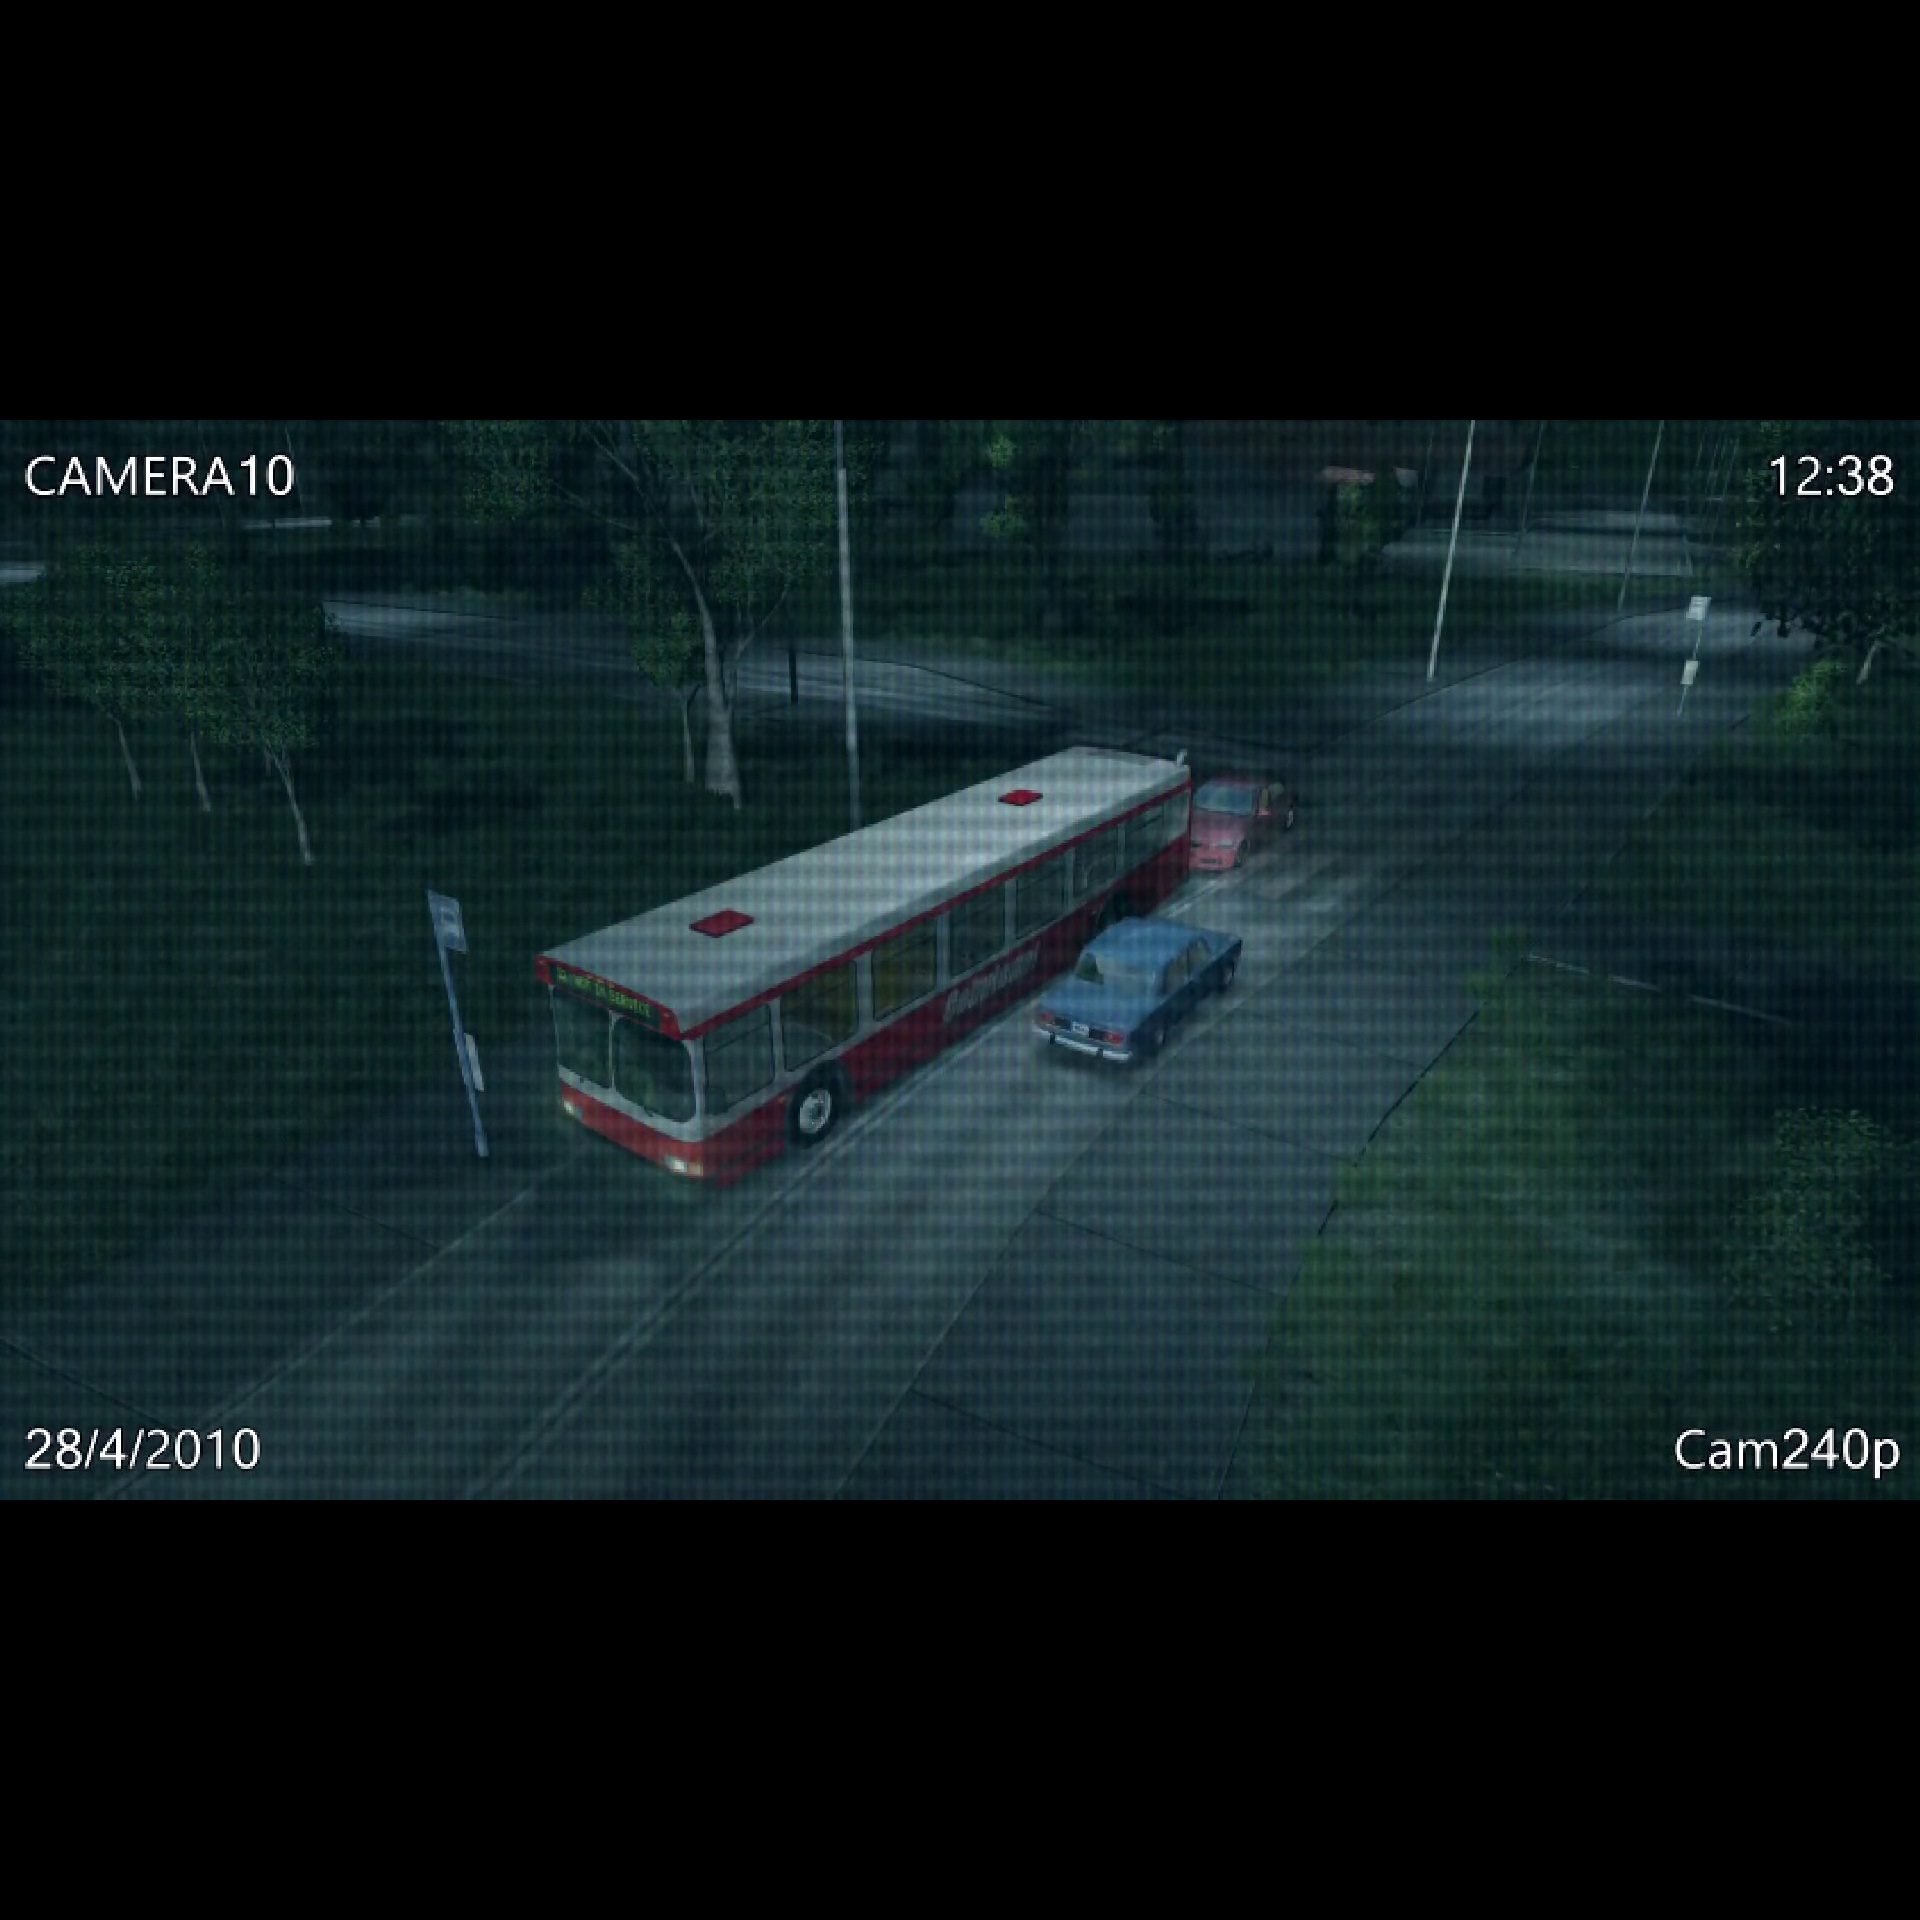vehicle: (536, 742, 1194, 1190), (1030, 905, 1255, 1069), (1190, 751, 1313, 874)
